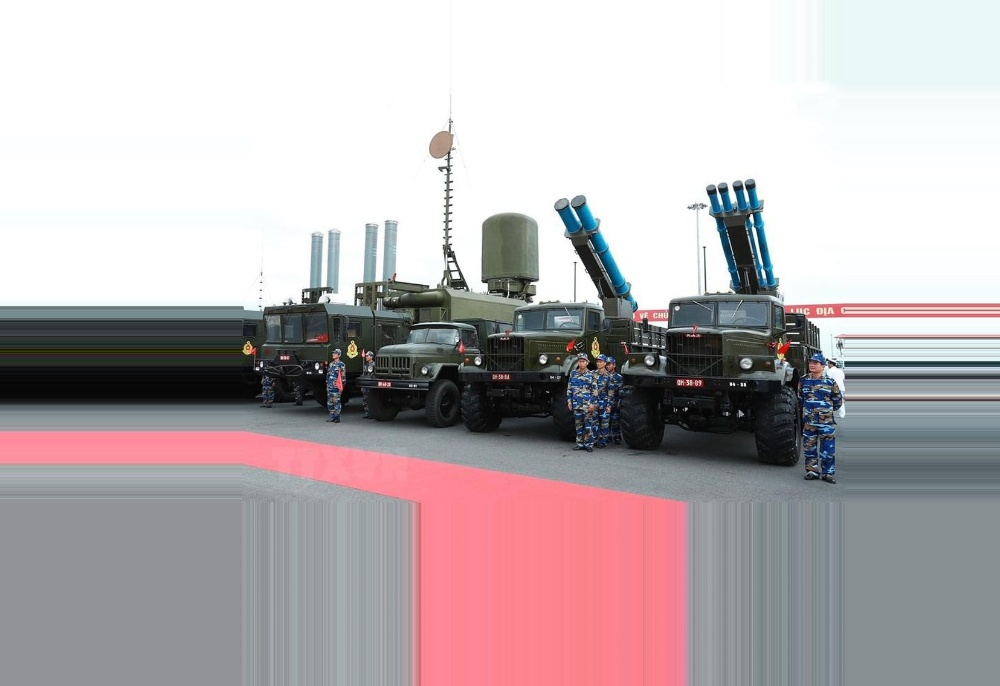plate: (672, 377, 707, 389), (487, 371, 511, 384), (375, 381, 392, 391), (274, 354, 293, 362)
